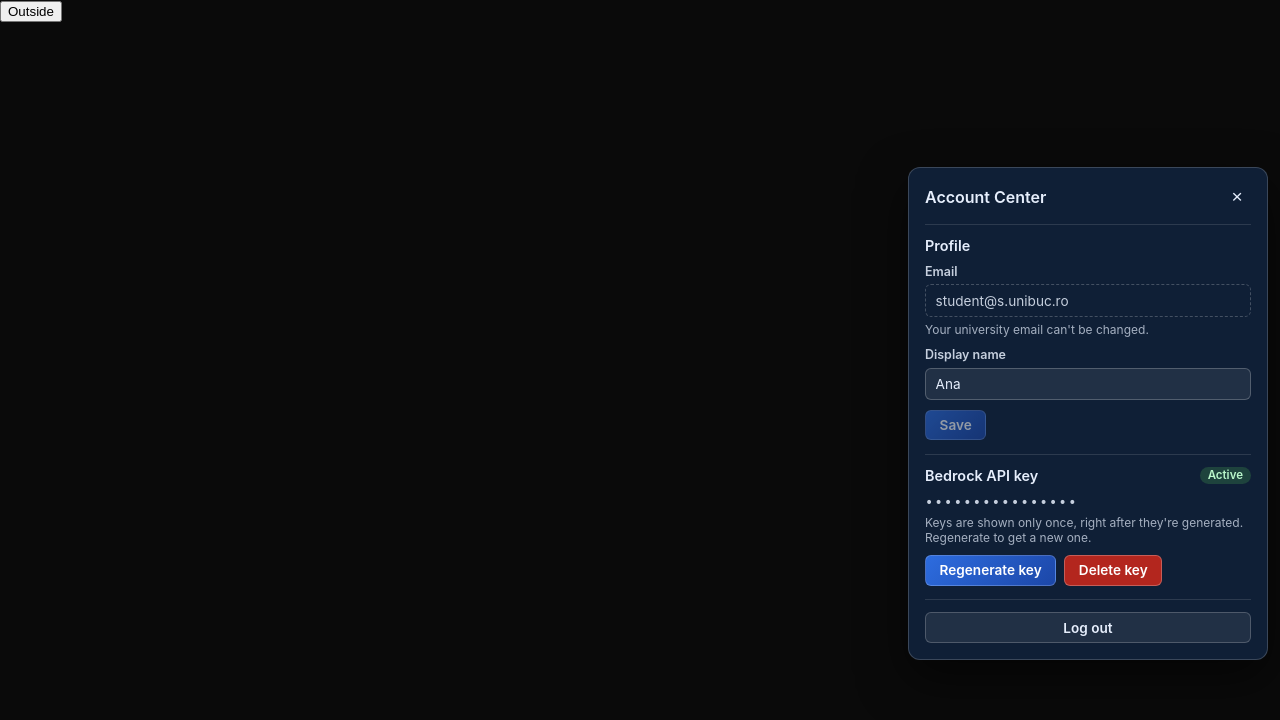
Test case: AccountCenter API key › asks for confirmation before deleting the key, then clears it
Click the button "Delete key": (1113, 570) [1064, 555, 1162, 586]
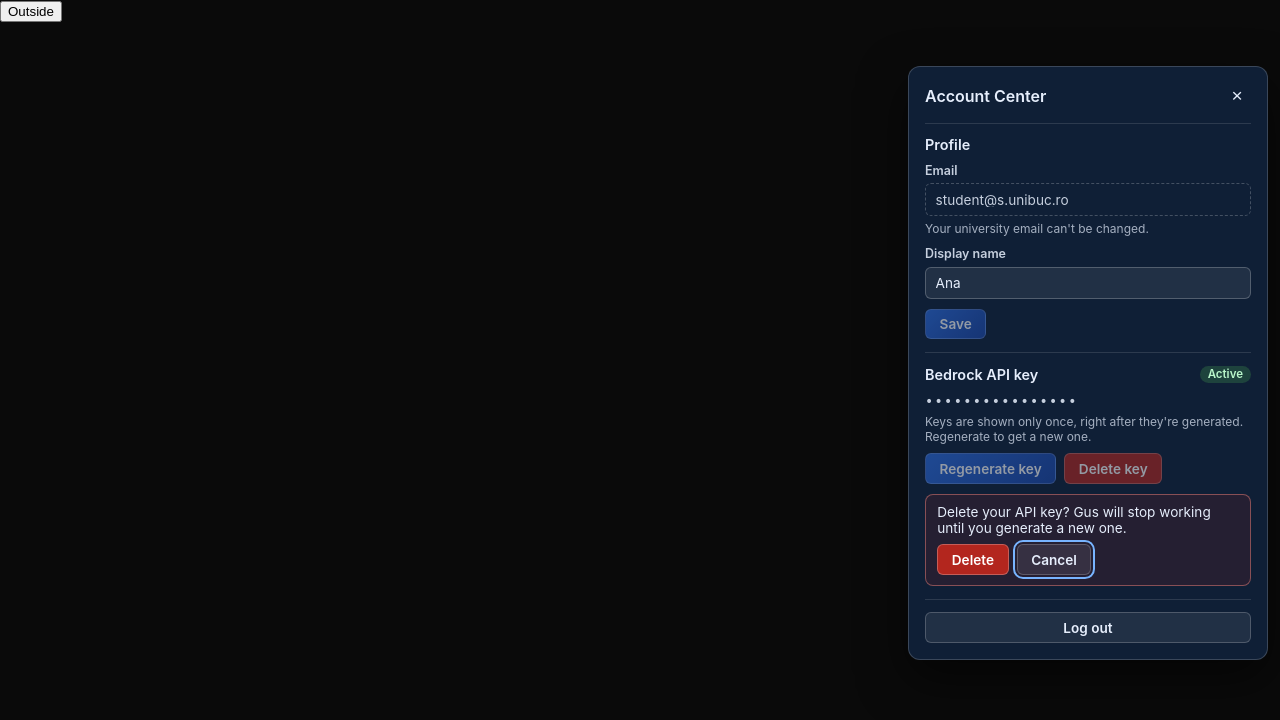
Click the button "Cancel": (1054, 560) [1016, 544, 1091, 575]
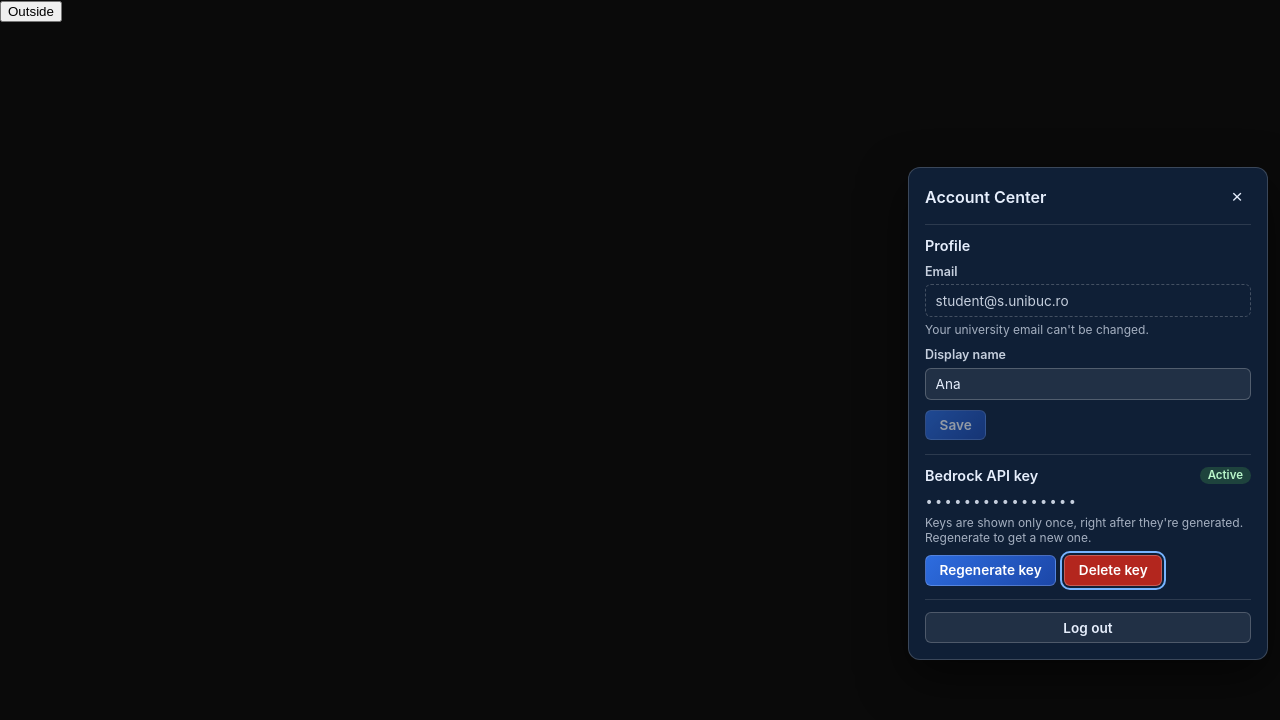
Click the button "Delete key": (1113, 570) [1064, 555, 1162, 586]
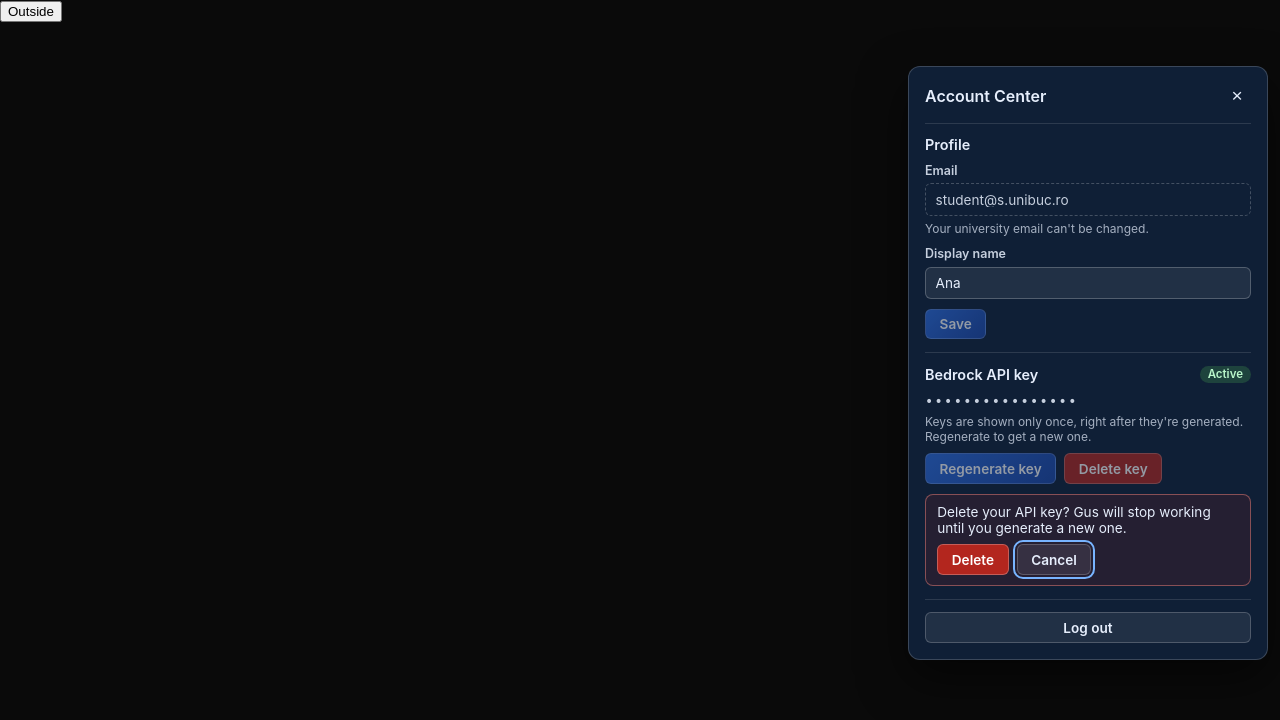
Click the button "Delete": (973, 560) [937, 544, 1008, 575]
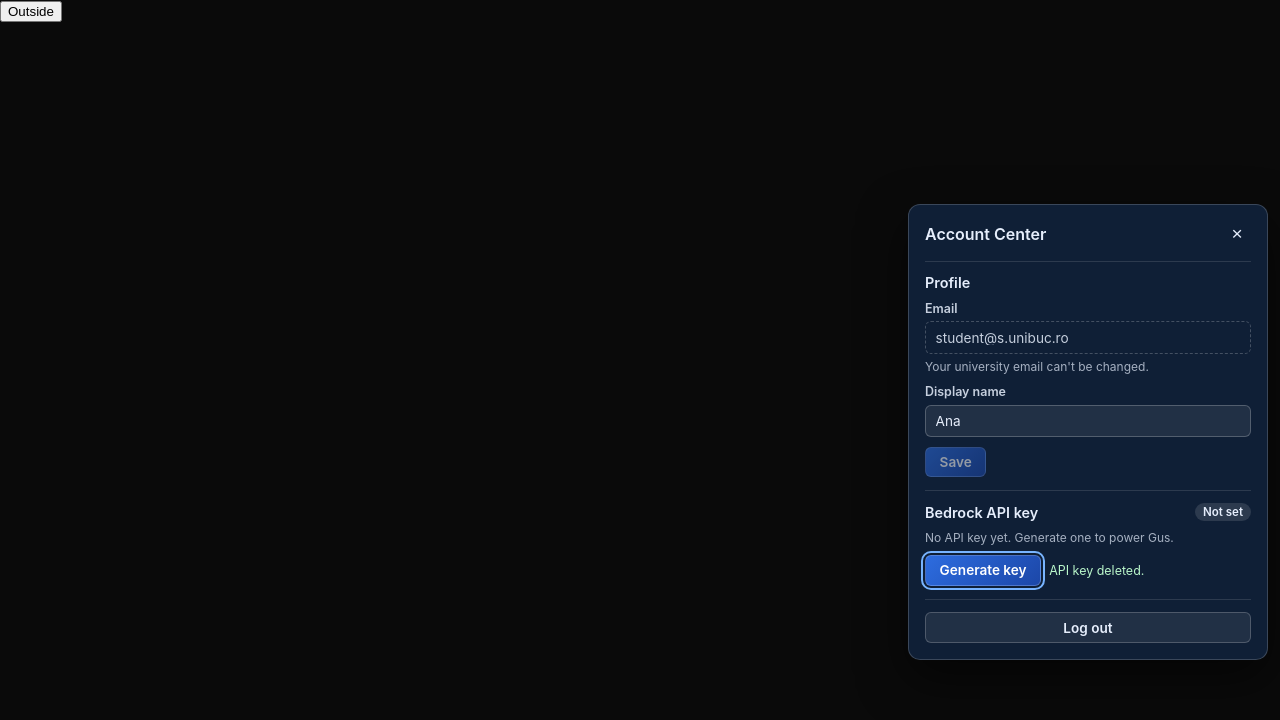
Check: the text with test id "account-center-api-key-status" reads "Not set", box [1203, 505, 1243, 519]
Check: the button "Delete key" is gone
Check: the message with test id "account-center-api-key-status-message" reads "API key deleted.", box [1049, 563, 1144, 578]
